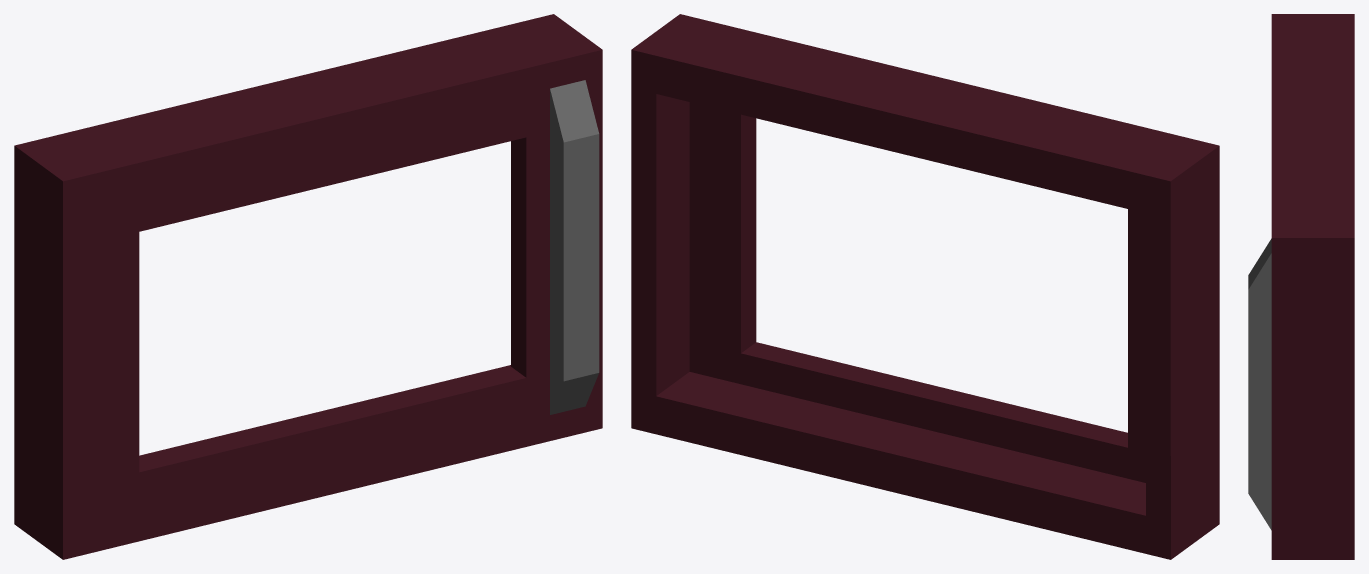
The model's file is Itr_Obj_Microwave_Door_04.FBX.
The picture shows the model from 3 angles, left to right: view 1: azimuth 30°, elevation 25°; view 2: azimuth 150°, elevation 25°; view 3: azimuth 270°, elevation 25°; orthographic projection. The views are drawn at different scales.
Parts seen in each view (by area): view 1: Itr_Obj_Microwave_Door_04; view 2: Itr_Obj_Microwave_Door_04; view 3: Itr_Obj_Microwave_Door_04.
Part boxes in pixels (x1,y1,x2,y2): Itr_Obj_Microwave_Door_04: (14,14,602,559); Itr_Obj_Microwave_Door_04: (631,14,1219,559); Itr_Obj_Microwave_Door_04: (1248,14,1354,559).
Bounding box in the file's own units: 21.27 × 14.26 × 4.28.
